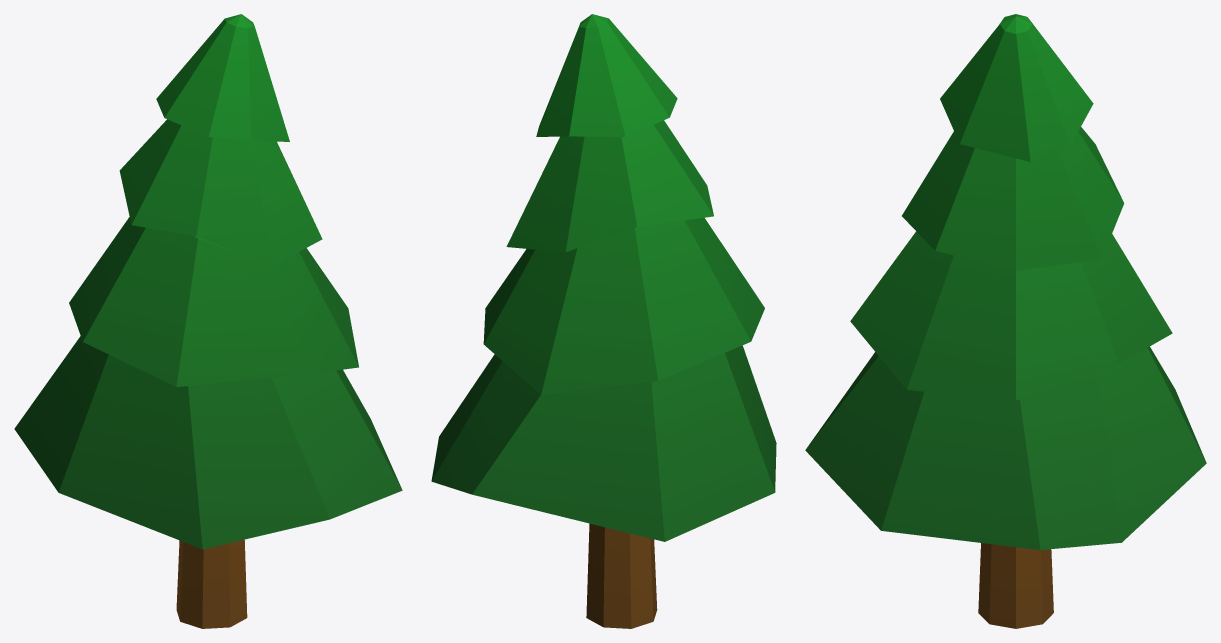
The model's file is Tree_Pine_1.fbx.
3 renders of one model, left to right at view 1: azimuth 30°, elevation 25°; view 2: azimuth 150°, elevation 25°; view 3: azimuth 270°, elevation 25°, orthographic. The views are drawn at different scales.
Parts seen in each view (by area): view 1: Tree_Pine_1; view 2: Tree_Pine_1; view 3: Tree_Pine_1.
Part boxes in pixels (x1,y1,x2,y2): Tree_Pine_1: (14,14,402,628); Tree_Pine_1: (431,14,776,628); Tree_Pine_1: (805,14,1206,628).
Bounding box in the file's own units: 459 × 801 × 477.
